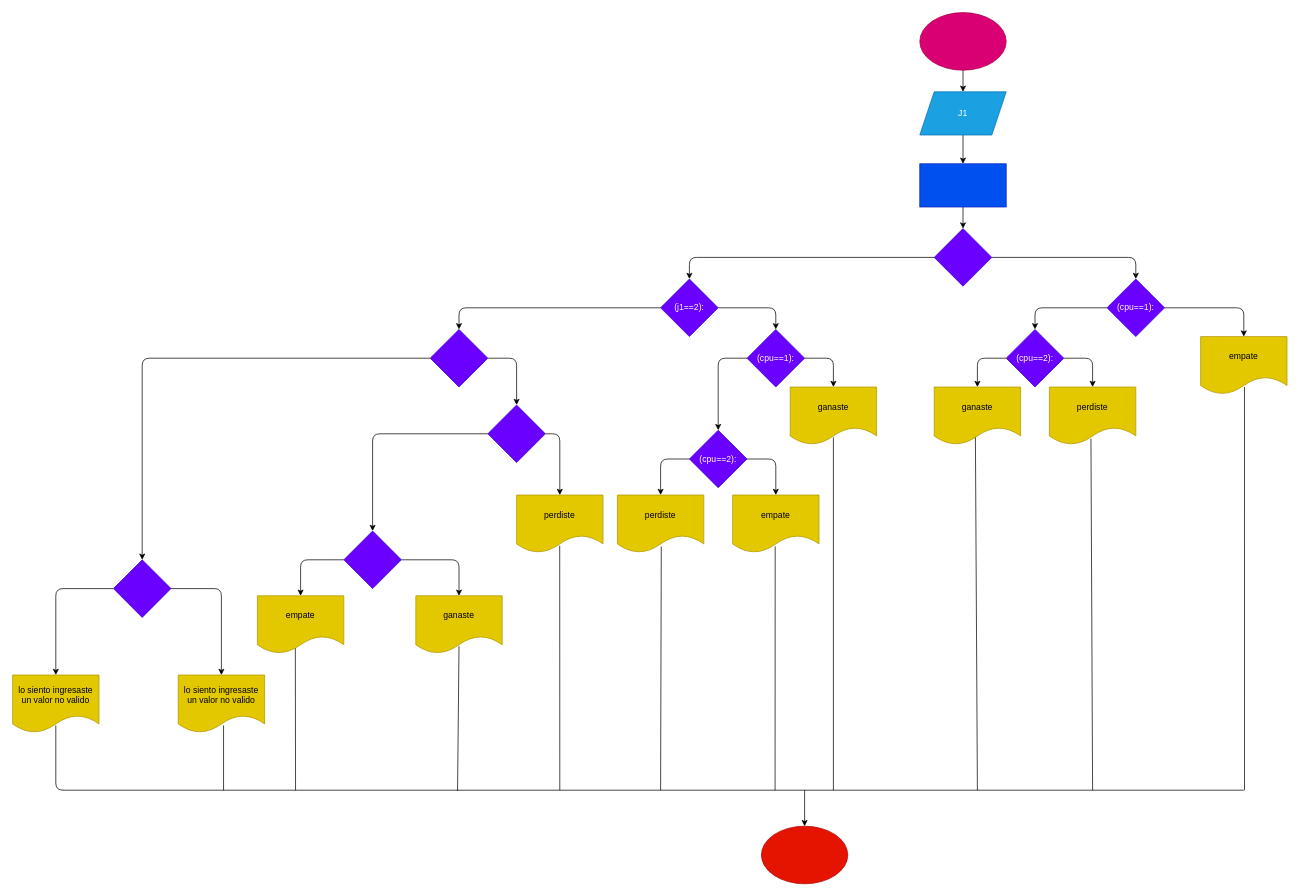
Image size: 1300x896. Some labels were removed from this diagram. The shapes that lost their labels are listed below. From the top down, each one's box as (x1, y1, x2, y2) in pixels, then its label:
(919, 12, 1006, 70): INICIO
(919, 163, 1006, 207): cpu = random.randint(1,3)
(933, 228, 992, 286): (j1==1)
(429, 329, 488, 387): (j3==3)
(487, 404, 545, 463): (cpu==1)
(343, 530, 401, 589): (cpu==2)
(113, 559, 171, 617): (j1>3)
(761, 825, 848, 884): FIN
